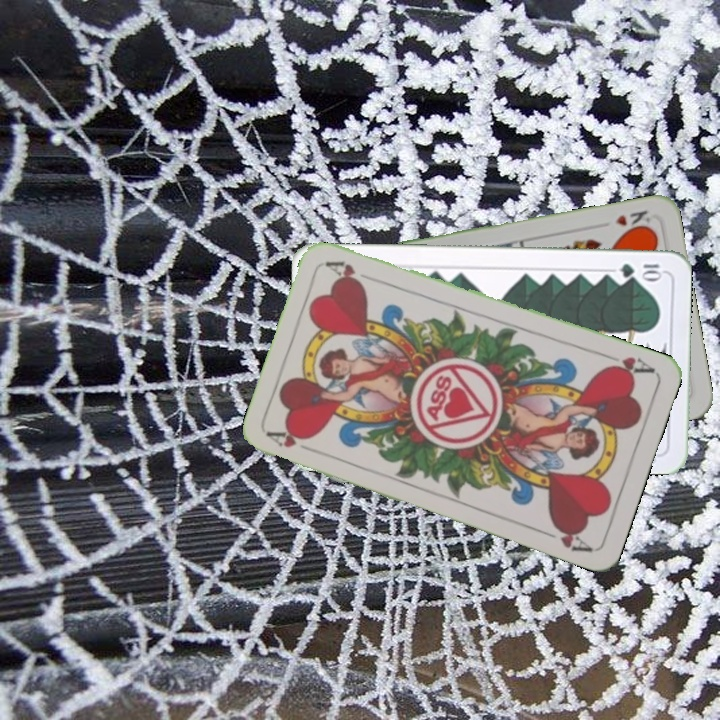G10: (615, 260, 664, 280)
HA: (599, 349, 657, 379), (264, 427, 322, 457)
HK: (611, 206, 653, 235)
